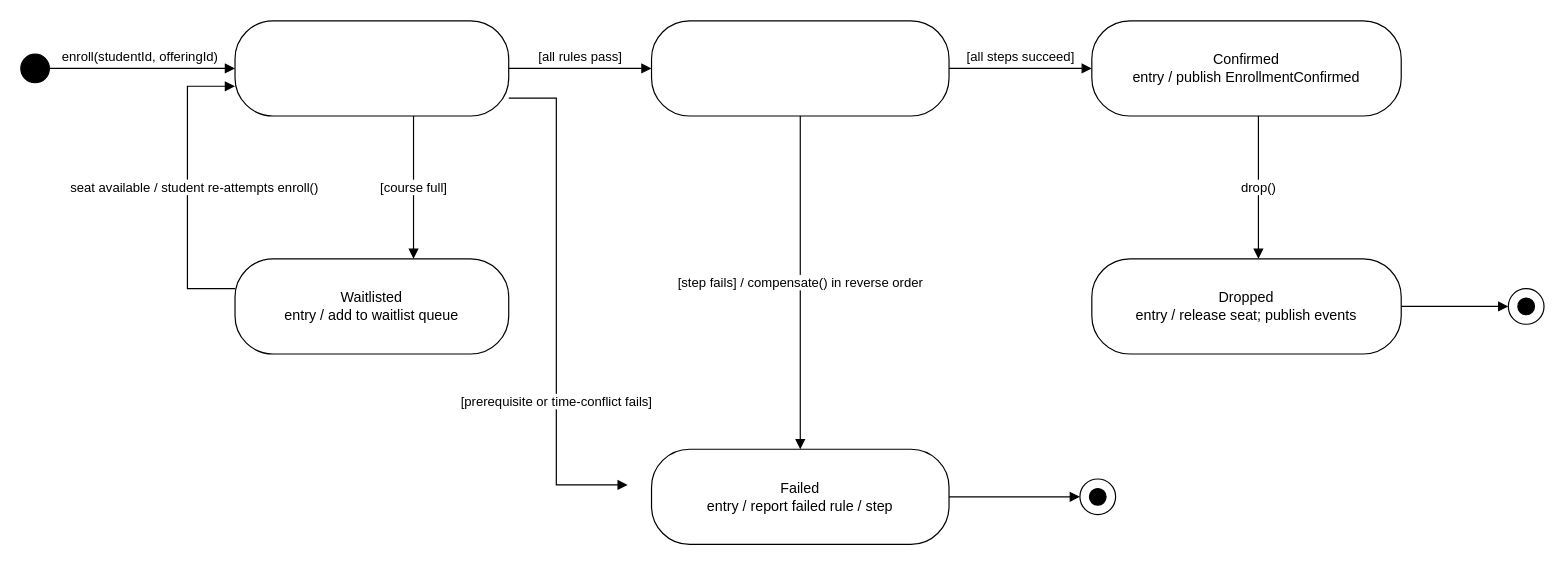
Some shapes in this 1565 by 565 pixel diagram are drawn without their labels. Here are the shapes that lost their labels. From the top down, the centre of each, then its label:
At point (371, 68): "Validating do / run validation chain (01)".
At point (799, 68): "Enrolling do / execute saga steps (04-B)".
